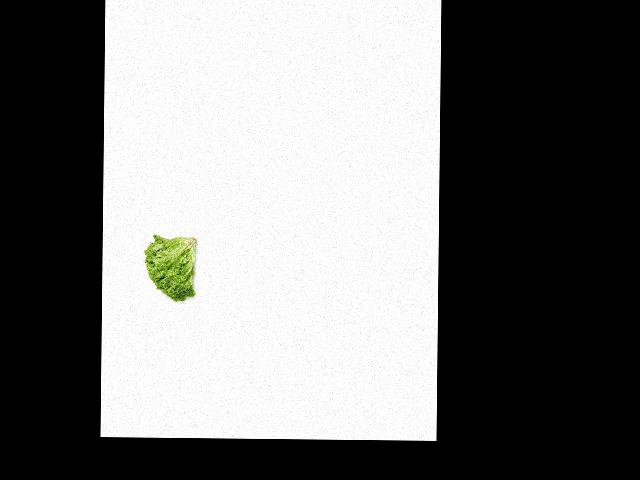lettuce: (140, 232, 202, 305)
